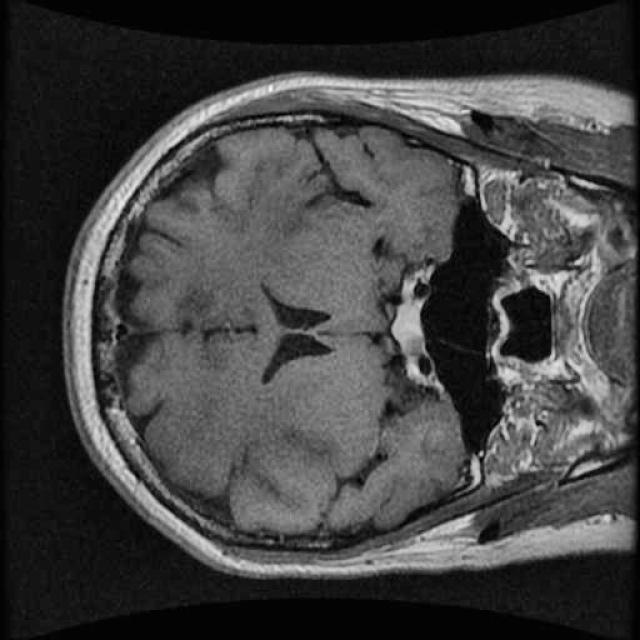Tumor: (384, 289, 430, 359)
